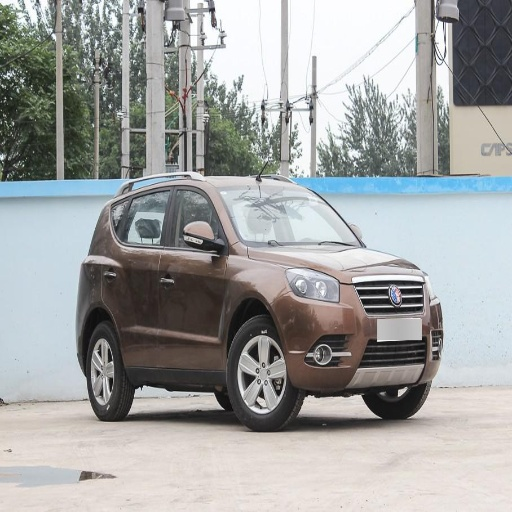front_bumper: (278, 266, 441, 393)
front_right_door: (157, 183, 225, 368)
front_right_light: (287, 268, 340, 301)
